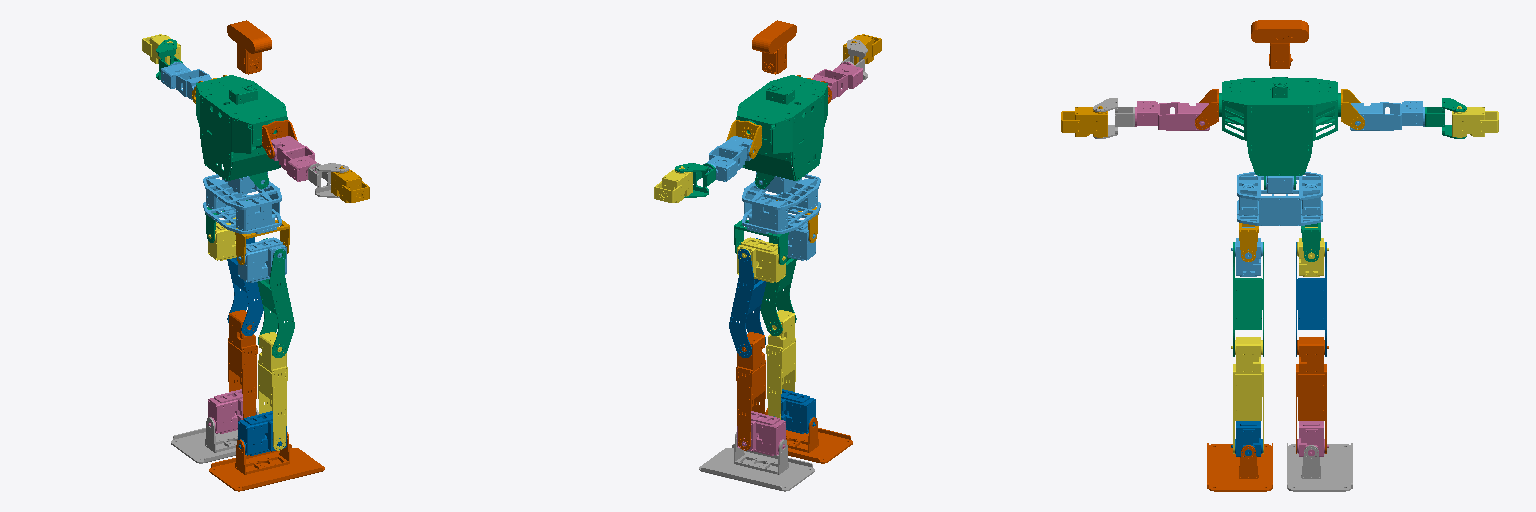
--- Render facts (derived) ---
The picture shows the robot from 3 angles, left to right: view 1: azimuth 30°, elevation 25°; view 2: azimuth 150°, elevation 25°; view 3: azimuth 270°, elevation 25°; orthographic projection.
Robot: robinion — 30 links, 29 joints (23 revolute, 6 fixed); root link base_link; default pose: all joints at 0.
Links seen in each view (by area): view 1: upper_body_link, torso_link, r_foot_link, r_knee_pitch_link, l_knee_pitch_link, r_hip_pitch_link, l_foot_link, head_pitch_link, l_hip_pitch_link, r_hip_roll_pitch_link, r_ankle_pitch_link, r_arm_1_link (+8 smaller); view 2: upper_body_link, torso_link, l_foot_link, l_knee_pitch_link, r_knee_pitch_link, l_hip_pitch_link, r_foot_link, head_pitch_link, r_hip_pitch_link, l_hip_roll_pitch_link, l_ankle_pitch_link, l_arm_1_link (+8 smaller); view 3: upper_body_link, torso_link, l_foot_link, r_foot_link, l_knee_pitch_link, r_knee_pitch_link, head_pitch_link, l_hip_pitch_link, r_hip_pitch_link, l_arm_1_link, r_arm_1_link, l_arm_3_link (+11 smaller).
Boxes of the visible links, <box> form: upper_body_link: <box>196,75,287,188</box>; torso_link: <box>203,172,281,233</box>; r_foot_link: <box>209,432,324,491</box>; r_knee_pitch_link: <box>258,332,287,450</box>; l_knee_pitch_link: <box>228,310,257,419</box>; r_hip_pitch_link: <box>257,238,294,357</box>; l_foot_link: <box>171,408,258,463</box>; head_pitch_link: <box>227,20,271,74</box>; l_hip_pitch_link: <box>227,237,263,335</box>; r_hip_roll_pitch_link: <box>238,237,286,282</box>; r_ankle_pitch_link: <box>238,411,286,455</box>; r_arm_1_link: <box>270,136,318,181</box>; upper_body_link: <box>736,75,827,188</box>; torso_link: <box>742,172,820,233</box>; l_foot_link: <box>699,432,814,491</box>; l_knee_pitch_link: <box>736,332,765,450</box>; r_knee_pitch_link: <box>766,310,795,419</box>; l_hip_pitch_link: <box>729,238,766,357</box>; r_foot_link: <box>765,408,852,463</box>; head_pitch_link: <box>752,20,796,74</box>; r_hip_pitch_link: <box>760,237,796,335</box>; l_hip_roll_pitch_link: <box>737,237,785,282</box>; l_ankle_pitch_link: <box>737,411,785,455</box>; l_arm_1_link: <box>705,136,753,181</box>; upper_body_link: <box>1219,77,1340,189</box>; torso_link: <box>1237,172,1322,225</box>; l_foot_link: <box>1287,443,1352,491</box>; r_foot_link: <box>1207,443,1272,491</box>; l_knee_pitch_link: <box>1296,337,1328,453</box>; r_knee_pitch_link: <box>1231,337,1263,453</box>; head_pitch_link: <box>1251,20,1308,68</box>; l_hip_pitch_link: <box>1296,242,1326,356</box>; r_hip_pitch_link: <box>1233,242,1263,356</box>; l_arm_1_link: <box>1350,101,1424,130</box>; r_arm_1_link: <box>1135,101,1209,130</box>; l_arm_3_link: <box>1452,106,1498,137</box>.
Size in the robot's own frame: 0.19 by 0.764 by 0.8576 metres.
23 mesh visuals loaded from 26 distinct referenced files (23 binary STL); not drawn: 3 (reference not matched to a file when rendering).

The robot description file, URDF, robot "robinion":
<?xml version="1.0" ?>
<!-- =================================================================================== -->
<!-- |    This document was autogenerated by xacro from robinion.xacro                 | -->
<!-- |    EDITING THIS FILE BY HAND IS NOT RECOMMENDED                                 | -->
<!-- =================================================================================== -->
<robot name="robinion">
  <!-- ros_control plugin -->
  <gazebo>
    <plugin filename="libgazebo_ros_control.so" name="gazebo_ros_control">
      <robotNamespace>/robinion</robotNamespace>
      <robotSimType>gazebo_ros_control/DefaultRobotHWSim</robotSimType>
    </plugin>
  </gazebo>
  <!-- Body -->
  <gazebo reference="torso_link">
    <mu1>0.2</mu1>
    <mu2>0.2</mu2>
    <material>Gazebo/White</material>
    <selfCollide>false</selfCollide>
  </gazebo>
  <gazebo reference="upper_body_link">
    <mu1>0.2</mu1>
    <mu2>0.2</mu2>
    <material>Gazebo/White</material>
    <selfCollide>false</selfCollide>
  </gazebo>
  <!-- Head -->
  <gazebo reference="head_yaw_link">
    <mu1>0.2</mu1>
    <mu2>0.2</mu2>
    <material>Gazebo/White</material>
    <selfCollide>false</selfCollide>
  </gazebo>
  <gazebo reference="head_pitch_link">
    <mu1>0.2</mu1>
    <mu2>0.2</mu2>
    <material>Gazebo/White</material>
    <selfCollide>false</selfCollide>
  </gazebo>
  <!-- Tangan Kiri -->
  <gazebo reference="l_shoulder_link">
    <mu1>0.2</mu1>
    <mu2>0.2</mu2>
    <material>Gazebo/White</material>
    <selfCollide>false</selfCollide>
  </gazebo>
  <gazebo reference="l_arm_1_link">
    <mu1>0.2</mu1>
    <mu2>0.2</mu2>
    <material>Gazebo/White</material>
    <selfCollide>false</selfCollide>
  </gazebo>
  <gazebo reference="l_arm_2_link">
    <mu1>0.2</mu1>
    <mu2>0.2</mu2>
    <material>Gazebo/White</material>
    <selfCollide>false</selfCollide>
  </gazebo>
  <gazebo reference="l_arm_3_link">
    <mu1>0.2</mu1>
    <mu2>0.2</mu2>
    <material>Gazebo/White</material>
    <selfCollide>false</selfCollide>
  </gazebo>
  <!-- Tangan Kanan -->
  <gazebo reference="r_shoulder_link">
    <mu1>0.2</mu1>
    <mu2>0.2</mu2>
    <material>Gazebo/White</material>
    <selfCollide>false</selfCollide>
  </gazebo>
  <gazebo reference="r_arm_1_link">
    <mu1>0.2</mu1>
    <mu2>0.2</mu2>
    <material>Gazebo/White</material>
    <selfCollide>false</selfCollide>
  </gazebo>
  <gazebo reference="r_arm_2_link">
    <mu1>0.2</mu1>
    <mu2>0.2</mu2>
    <material>Gazebo/White</material>
    <selfCollide>false</selfCollide>
  </gazebo>
  <gazebo reference="r_arm_3_link">
    <mu1>0.2</mu1>
    <mu2>0.2</mu2>
    <material>Gazebo/White</material>
    <selfCollide>false</selfCollide>
  </gazebo>
  <!-- Kaki Kiri -->
  <gazebo reference="l_hip_yaw_link">
    <mu1>0.2</mu1>
    <mu2>0.2</mu2>
    <material>Gazebo/White</material>
    <selfCollide>false</selfCollide>
  </gazebo>
  <gazebo reference="l_hip_roll_pitch_link">
    <mu1>0.2</mu1>
    <mu2>0.2</mu2>
    <material>Gazebo/White</material>
    <selfCollide>false</selfCollide>
  </gazebo>
  <gazebo reference="l_thigh_back_link">
    <mu1>0.2</mu1>
    <mu2>0.2</mu2>
    <material>Gazebo/White</material>
    <selfCollide>false</selfCollide>
  </gazebo>
  <gazebo reference="l_thigh_front_link">
    <mu1>0.2</mu1>
    <mu2>0.2</mu2>
    <material>Gazebo/White</material>
    <selfCollide>false</selfCollide>
  </gazebo>
  <gazebo reference="l_knee_link">
    <mu1>0.2</mu1>
    <mu2>0.2</mu2>
    <material>Gazebo/White</material>
    <selfCollide>false</selfCollide>
  </gazebo>
  <gazebo reference="l_shank_back_link">
    <mu1>0.2</mu1>
    <mu2>0.2</mu2>
    <material>Gazebo/White</material>
    <selfCollide>false</selfCollide>
  </gazebo>
  <gazebo reference="l_shank_front_link">
    <mu1>0.2</mu1>
    <mu2>0.2</mu2>
    <material>Gazebo/White</material>
    <selfCollide>false</selfCollide>
  </gazebo>
  <gazebo reference="l_ankle_roll_pitch_link">
    <mu1>0.2</mu1>
    <mu2>0.2</mu2>
    <material>Gazebo/White</material>
    <selfCollide>false</selfCollide>
  </gazebo>
  <gazebo reference="l_foot_link">
    <kp>100000.0</kp>
    <kd>100.0</kd>
    <mu1>1.5</mu1>
    <mu2>1.5</mu2>
    <fdir1>1 0 0</fdir1>
    <maxVel>1.0</maxVel>
    <minDepth>0.001</minDepth>
    <material>Gazebo/White</material>
    <selfCollide>false</selfCollide>
  </gazebo>
  <!-- right leg links -->
  <gazebo reference="r_hip_yaw_link">
    <mu1>0.2</mu1>
    <mu2>0.2</mu2>
    <material>Gazebo/White</material>
    <selfCollide>false</selfCollide>
  </gazebo>
  <gazebo reference="r_hip_roll_pitch_link">
    <mu1>0.2</mu1>
    <mu2>0.2</mu2>
    <material>Gazebo/White</material>
    <selfCollide>false</selfCollide>
  </gazebo>
  <gazebo reference="r_thigh_back_link">
    <mu1>0.2</mu1>
    <mu2>0.2</mu2>
    <material>Gazebo/White</material>
    <selfCollide>false</selfCollide>
  </gazebo>
  <gazebo reference="r_thigh_front_link">
    <mu1>0.2</mu1>
    <mu2>0.2</mu2>
    <material>Gazebo/White</material>
    <selfCollide>false</selfCollide>
  </gazebo>
  <gazebo reference="r_knee_link">
    <mu1>0.2</mu1>
    <mu2>0.2</mu2>
    <material>Gazebo/White</material>
    <selfCollide>false</selfCollide>
  </gazebo>
  <gazebo reference="r_shank_back_link">
    <mu1>0.2</mu1>
    <mu2>0.2</mu2>
    <material>Gazebo/White</material>
    <selfCollide>false</selfCollide>
  </gazebo>
  <gazebo reference="r_shank_front_link">
    <mu1>0.2</mu1>
    <mu2>0.2</mu2>
    <material>Gazebo/White</material>
    <selfCollide>false</selfCollide>
  </gazebo>
  <gazebo reference="r_ankle_roll_pitch_link">
    <mu1>0.2</mu1>
    <mu2>0.2</mu2>
    <material>Gazebo/White</material>
    <selfCollide>false</selfCollide>
  </gazebo>
  <gazebo reference="r_foot_link">
    <kp>100000.0</kp>
    <kd>100.0</kd>
    <mu1>1.5</mu1>
    <mu2>1.5</mu2>
    <fdir1>1 0 0</fdir1>
    <maxVel>1.0</maxVel>
    <minDepth>0.001</minDepth>
    <material>Gazebo/White</material>
    <selfCollide>false</selfCollide>
  </gazebo>
  <gazebo reference="gaze_link">
    <sensor name="camera" type="camera">
      <camera name="__default__">
        <horizontal_fov>1.012300</horizontal_fov>
        <image>
          <width>320</width>
          <height>240</height>
        </image>
        <clip>
          <near>0.001000</near>
          <far>100.000000</far>
        </clip>
      </camera>
      <always_on>1</always_on>
      <update_rate>30.000000</update_rate>
      <visualize>1</visualize>
      <plugin filename="libgazebo_ros_camera.so" name="camera_controller">
        <alwaysOn>true</alwaysOn>
        <updateRate>30</updateRate>
        <cameraName>robinion/camera</cameraName>
        <imageTopicName>image_raw</imageTopicName>
        <cameraInfoTopicName>camera_info</cameraInfoTopicName>
        <frameName>cam_link</frameName>
        <hackBaseline>0.07</hackBaseline>
        <distortionK1>0.0</distortionK1>
        <distortionK2>0.0</distortionK2>
        <distortionK3>0.0</distortionK3>
        <distortionT1>0.0</distortionT1>
        <distortionT2>0.0</distortionT2>
      </plugin>
    </sensor>
  </gazebo>
  <gazebo reference="imu_link">
    <gravity>true</gravity>
    <sensor name="imu_sensor" type="imu">
      <always_on>true</always_on>
      <update_rate>125</update_rate>
      <visualize>true</visualize>
      <topic>__default_topic__</topic>
      <plugin filename="libgazebo_ros_imu_sensor.so" name="imu_plugin">
        <topicName>robinion/imu</topicName>
        <bodyName>imu_link</bodyName>
        <updateRateHZ>125.0</updateRateHZ>
        <gaussianNoise>0.0</gaussianNoise>
        <xyzOffset>0 0 0</xyzOffset>
        <rpyOffset>0 0 0</rpyOffset>
        <frameName>imu_link</frameName>
      </plugin>
    </sensor>
  </gazebo>
  <!-- <xacro:property name="pi" value="3.141592654" /> -->
  <!-- <xacro:property name="pi" value="3.141592654" /> -->
  <link name="base_link">
    </link>
  <joint name="base_fixed_joint" type="fixed">
    <parent link="base_link"/>
    <child link="torso_link"/>
    <origin rpy="0 0 0" xyz="0.000 0.000 0.000"/>
  </joint>
  <link name="torso_link">
    <collision>
      <origin rpy="0.00 0.00 0.00" xyz="0.00 0.00 0.00"/>
      <geometry>
        <mesh filename="package://robinion_description/meshes/collision/lower_body_collision.stl"/>
      </geometry>
    </collision>
    <visual>
      <origin rpy="0.00 0.00 0.00" xyz="0.00 0.00 0.00"/>
      <geometry>
        <mesh filename="package://robinion_description/meshes/visual/lower_body_visual.stl"/>
      </geometry>
    </visual>
    <inertial>
      <origin rpy="0.00 0.00 0.00" xyz="-0.007122 0.000256 0.034914"/>
      <mass value="0.960747"/>
      <inertia ixx="0.002662" ixy="0.000002" ixz="0.000113" iyy="0.001197" iyz="0.000003" izz="0.002578"/>
    </inertial>
  </link>
  <joint name="torso_pitch_joint" type="revolute">
    <parent link="torso_link"/>
    <child link="upper_body_link"/>
    <origin rpy="0 0 0" xyz="0.019 0.0245 0.07075"/>
    <axis xyz="0 1 0"/>
    <limit effort="10.6" lower="-0.52" upper="1.570796327" velocity="3.14"/>
    <!-- <limit velocity="3.14" effort="100" lower="-3" upper="3" /> -->
    <dynamics damping="0.1" friction="0.0"/>
    <implicitSpringDamper>True</implicitSpringDamper>
  </joint>
  <transmission name="torso_pitch_joint_tran">
    <type>transmission_interface/SimpleTransmission</type>
    <joint name="torso_pitch_joint">
      <hardwareInterface>hardware_interface/EffortJointInterface</hardwareInterface>
    </joint>
    <actuator name="torso_pitch_joint_motor">
      <hardwareInterface>hardware_interface/EffortJointInterface</hardwareInterface>
      <mechanicalReduction>1</mechanicalReduction>
    </actuator>
  </transmission>
  <link name="upper_body_link">
    <collision>
      <origin rpy="0.00 0.00 0.00" xyz="0.00 0.00 0.00"/>
      <geometry>
        <mesh filename="package://robinion_description/meshes/collision/upper_body_collision.stl"/>
      </geometry>
    </collision>
    <visual>
      <origin rpy="0.00 0.00 0.00" xyz="0.00 0.00 0.00"/>
      <geometry>
        <mesh filename="package://robinion_description/meshes/visual/upper_body_visual.stl"/>
      </geometry>
    </visual>
    <inertial>
      <origin rpy="0.00 0.00 0.00" xyz="-0.029870 -0.024411 0.123492"/>
      <mass value="1.234139"/>
      <inertia ixx="0.006795" ixy="0.000000" ixz="-0.000098" iyy="0.003101" iyz="-0.000005" izz="0.006100"/>
    </inertial>
  </link>
  <joint name="imu_fixed_joint" type="fixed">
    <parent link="upper_body_link"/>
    <child link="imu_link"/>
    <origin rpy="0 0 0" xyz="-0.021 -0.025 0.122"/>
  </joint>
  <link name="imu_link">
    </link>
  <joint name="head_yaw_joint" type="revolute">
    <parent link="upper_body_link"/>
    <child link="head_yaw_link"/>
    <origin rpy="0 0 0" xyz="-0.0125 -0.0245 0.183051"/>
    <axis xyz="0 0 1"/>
    <limit effort="4.1" lower="-1.570796327" upper="1.570796327" velocity="4.82"/>
    <!-- <limit velocity="4.82" effort="1000" lower="-3" upper="3" /> -->
    <dynamics damping="0.1" friction="0.0"/>
    <implicitSpringDamper>True</implicitSpringDamper>
  </joint>
  <transmission name="head_yaw_joint_tran">
    <type>transmission_interface/SimpleTransmission</type>
    <joint name="head_yaw_joint">
      <hardwareInterface>hardware_interface/EffortJointInterface</hardwareInterface>
    </joint>
    <actuator name="head_yaw_joint_motor">
      <hardwareInterface>hardware_interface/EffortJointInterface</hardwareInterface>
      <mechanicalReduction>1</mechanicalReduction>
    </actuator>
  </transmission>
  <link name="head_yaw_link">
    <collision>
      <origin rpy="0.00 0.00 0.00" xyz="0.00 0.00 0.00"/>
      <geometry>
        <mesh filename="package://robinion_description/meshes/collision/head_yaw_collision.stl"/>
      </geometry>
    </collision>
    <visual>
      <origin rpy="0.00 0.00 0.00" xyz="0.00 0.00 0.00"/>
      <geometry>
        <mesh filename="package://robinion_description/meshes/visual/standard/head_yaw_visual.stl"/>
      </geometry>
    </visual>
    <inertial>
      <origin rpy="0.00 0.00 0.00" xyz="0.000000 0.000000 0.015679"/>
      <mass value="0.017180"/>
      <inertia ixx="0.000009" ixy="0.000000" ixz="0.000000" iyy="0.000005" iyz="0.000000" izz="0.000006"/>
    </inertial>
  </link>
  <joint name="head_pitch_joint" type="revolute">
    <parent link="head_yaw_link"/>
    <child link="head_pitch_link"/>
    <origin rpy="0 0 0" xyz="0.000 0.019 0.047"/>
    <axis xyz="0 -1 0"/>
    <limit effort="4.1" lower="-1.570796327" upper="1.570796327" velocity="4.82"/>
    <!-- <limit velocity="4.82" effort="1000" lower="-3" upper="3" /> -->
    <dynamics damping="0.1" friction="0.0"/>
    <implicitSpringDamper>True</implicitSpringDamper>
  </joint>
  <transmission name="head_pitch_joint_tran">
    <type>transmission_interface/SimpleTransmission</type>
    <joint name="head_pitch_joint">
      <hardwareInterface>hardware_interface/EffortJointInterface</hardwareInterface>
    </joint>
    <actuator name="head_pitch_joint_motor">
      <hardwareInterface>hardware_interface/EffortJointInterface</hardwareInterface>
      <mechanicalReduction>1</mechanicalReduction>
    </actuator>
  </transmission>
  <link name="head_pitch_link">
    <collision>
      <origin rpy="0.00 0.00 0.00" xyz="0.00 0.00 0.00"/>
      <geometry>
        <mesh filename="package://robinion_description/meshes/collision/head_pitch_collision.stl"/>
      </geometry>
    </collision>
    <visual>
      <origin rpy="0.00 0.00 0.00" xyz="0.00 0.00 0.00"/>
      <geometry>
        <mesh filename="package://robinion_description/meshes/visual/standard/head_pitch_visual.stl"/>
      </geometry>
    </visual>
    <inertial>
      <origin rpy="0.00 0.00 0.00" xyz="0.000985 -0.018216 0.022305"/>
      <mass value="0.164500"/>
      <inertia ixx="0.000115" ixy="0.000000" ixz="0.000005" iyy="0.000092" iyz="0.000001" izz="0.000047"/>
    </inertial>
  </link>
  <joint name="cam_fixed_joint" type="fixed">
    <parent link="head_pitch_link"/>
    <child link="cam_link"/>
    <origin rpy="-1.5708 0 -1.5708" xyz="0.019 -0.019 0.054"/>
  </joint>
  <link name="cam_link">
		</link>
  <joint name="gaze_fixed_joint" type="fixed">
    <parent link="head_pitch_link"/>
    <child link="gaze_link"/>
    <origin rpy="0 0 0" xyz="0.019 -0.019 0.054"/>
  </joint>
  <link name="gaze_link">
		</link>
  <joint name="l_shoulder_pitch_joint" type="revolute">
    <parent link="upper_body_link"/>
    <child link="l_shoulder_link"/>
    <origin rpy="0 0 0" xyz="-0.02089 0.0815 0.1388"/>
    <axis xyz="0 1 0"/>
    <limit effort="10.6" lower="-2.8274333886000003" upper="2.8274333886000003" velocity="3.14"/>
    <!-- <limit velocity="3.14" effort="100" lower="-3" upper="3" /> -->
    <dynamics damping="0.1" friction="0.0"/>
    <implicitSpringDamper>True</implicitSpringDamper>
  </joint>
  <transmission name="l_shoulder_pitch_joint_tran">
    <type>transmission_interface/SimpleTransmission</type>
    <joint name="l_shoulder_pitch_joint">
      <hardwareInterface>hardware_interface/EffortJointInterface</hardwareInterface>
    </joint>
    <actuator name="l_shoulder_pitch_joint_motor">
      <hardwareInterface>hardware_interface/EffortJointInterface</hardwareInterface>
      <mechanicalReduction>1</mechanicalReduction>
    </actuator>
  </transmission>
  <link name="l_shoulder_link">
    <collision>
      <origin rpy="0.00 0.00 0.00" xyz="0.00 0.00 0.00"/>
      <geometry>
        <mesh filename="package://robinion_description/meshes/collision/l_shoulder_collision.stl"/>
      </geometry>
    </collision>
    <visual>
      <origin rpy="0.00 0.00 0.00" xyz="0.00 0.00 0.00"/>
      <geometry>
        <mesh filename="package://robinion_description/meshes/visual/standard/left_shoulder_visual.stl"/>
      </geometry>
    </visual>
    <inertial>
      <origin rpy="0.00 0.00 0.00" xyz="0.000000 0.010235 -0.004313"/>
      <mass value="0.044923"/>
      <inertia ixx="0.000013" ixy="0.000000" ixz="0.000000" iyy="0.000027" iyz="-0.000003" izz="0.000025"/>
    </inertial>
  </link>
  <joint name="l_shoulder_roll_joint" type="revolute">
    <parent link="l_shoulder_link"/>
    <child link="l_arm_1_link"/>
    <origin rpy="0 0 0" xyz="0.0245 0.030017 -0.022"/>
    <axis xyz="-1 0 0"/>
    <limit effort="10.6" lower="-1.570796327" upper="1.570796327" velocity="3.14"/>
    <!-- <limit velocity="3.14" effort="100" lower="-3" upper="3" /> -->
    <dynamics damping="0.1" friction="0.0"/>
    <implicitSpringDamper>True</implicitSpringDamper>
  </joint>
  <transmission name="l_shoulder_roll_joint_tran">
    <type>transmission_interface/SimpleTransmission</type>
    <joint name="l_shoulder_roll_joint">
      <hardwareInterface>hardware_interface/EffortJointInterface</hardwareInterface>
    </joint>
    <actuator name="l_shoulder_roll_joint_motor">
      <hardwareInterface>hardware_interface/EffortJointInterface</hardwareInterface>
      <mechanicalReduction>1</mechanicalReduction>
    </actuator>
  </transmission>
  <link name="l_arm_1_link">
    <collision>
      <origin rpy="0.00 0.00 0.00" xyz="0.00 0.00 0.00"/>
      <geometry>
        <mesh filename="package://robinion_description/meshes/collision/l_arm_1_collision.stl"/>
      </geometry>
    </collision>
    <visual>
      <origin rpy="0.00 0.00 0.00" xyz="0.00 0.00 0.00"/>
      <geometry>
        <mesh filename="package://robinion_description/meshes/visual/l_arm_1_visual.stl"/>
      </geometry>
    </visual>
    <inertial>
      <origin rpy="0.00 0.00 0.00" xyz="-0.027891 0.046707 0.000000"/>
      <mass value="0.389041"/>
      <inertia ixx="0.000698" ixy="-0.000079" ixz="0.000000" iyy="0.000117" iyz="0.000000" izz="0.000753"/>
    </inertial>
  </link>
  <joint name="l_elbow_pitch_joint" type="revolute">
    <parent link="l_arm_1_link"/>
    <child link="l_arm_2_link"/>
    <origin rpy="0 0 0" xyz="-0.0245 0.118 0.000"/>
    <axis xyz="0 1 0"/>
    <limit effort="4.1" lower="-2.8274333886000003" upper="2.8274333886000003" velocity="4.82"/>
    <!-- <limit velocity="4.82" effort="100" lower="-3" upper="3" /> -->
    <dynamics damping="0.1" friction="0.0"/>
    <implicitSpringDamper>True</implicitSpringDamper>
  </joint>
  <transmission name="l_elbow_pitch_joint_tran">
    <type>transmission_interface/SimpleTransmission</type>
    <joint name="l_elbow_pitch_joint">
      <hardwareInterface>hardware_interface/EffortJointInterface</hardwareInterface>
    </joint>
    <actuator name="l_elbow_pitch_joint_motor">
      <hardwareInterface>hardware_interface/EffortJointInterface</hardwareInterface>
      <mechanicalReduction>1</mechanicalReduction>
    </actuator>
  </transmission>
  <link name="l_arm_2_link">
    <collision>
      <origin rpy="0.00 0.00 0.00" xyz="0.00 0.00 0.00"/>
      <geometry>
        <mesh filename="package://robinion_description/meshes/collision/l_arm_2_collision.stl"/>
      </geometry>
    </collision>
    <visual>
      <origin rpy="0.00 0.00 0.00" xyz="0.00 0.00 0.00"/>
      <geometry>
        <mesh filename="package://robinion_description/meshes/visual/l_arm_2_visual.stl"/>
      </geometry>
    </visual>
    <inertial>
      <origin rpy="0.00 0.00 0.00" xyz="0.003756 0.032656 0.000000"/>
      <mass value="0.051730"/>
      <inertia ixx="0.000036" ixy="0.000005" ixz="0.000000" iyy="0.000028" iyz="0.000000" izz="0.000025"/>
    </inertial>
  </link>
  <joint name="l_elbow_yaw_joint" type="revolute">
    <parent link="l_arm_2_link"/>
    <child link="l_arm_3_link"/>
    <origin rpy="0 0 0" xyz="0.022 0.060 0.0245"/>
    <axis xyz="0 0 -1"/>
    <limit effort="10.6" lower="-1.570796327" upper="1.570796327" velocity="3.14"/>
    <!-- <limit velocity="3.14" effort="100" lower="-3" upper="3" /> -->
    <dynamics damping="0.1" friction="0.0"/>
    <implicitSpringDamper>True</implicitSpringDamper>
  </joint>
  <transmission name="l_elbow_yaw_joint_tran">
    <type>transmission_interface/SimpleTransmission</type>
    <joint name="l_elbow_yaw_joint">
      <hardwareInterface>hardware_interface/EffortJointInterface</hardwareInterface>
    </joint>
    <actuator name="l_elbow_yaw_joint_motor">
      <hardwareInterface>hardware_interface/EffortJointInterface</hardwareInterface>
      <mechanicalReduction>1</mechanicalReduction>
    </actuator>
  </transmission>
  <link name="l_arm_3_link">
    <collision>
      <origin rpy="0.00 0.00 0.00" xyz="0.00 0.00 0.00"/>
      <geometry>
        <mesh filename="package://robinion_description/meshes/collision/l_arm_3_collision.stl"/>
      </geometry>
    </collision>
    <visual>
      <origin rpy="0.00 0.00 0.00" xyz="0.00 0.00 0.00"/>
      <geometry>
        <mesh filename="package://robinion_description/meshes/visual/l_arm_3_visual.stl"/>
      </geometry>
    </visual>
    <inertial>
      <origin rpy="0.00 0.00 0.00" xyz="0.000000 0.018081 -0.023869"/>
      <mass value="0.246669"/>
      <inertia ixx="0.000135" ixy="0.000000" ixz="0.000000" iyy="0.000064" iyz="-0.000001" izz="0.000121"/>
    </inertial>
  </link>
  <!-- <joint name="l_wrist_fixed_joint" type="fixed">
			<parent link="l_arm_3_link"/>
			<child link="l_wrist"/>
			<origin xyz="0.000 0.068 -0.0245" rpy="0 0 0"/>
		</joint>

		<link name="l_wrist">
		</link> -->
  <joint name="l_gripper_fixed_joint" type="fixed">
    <parent link="l_arm_3_link"/>
    <child link="l_gripper"/>
    <origin rpy="0 0 0" xyz="0.000 0.068 -0.0245"/>
  </joint>
  <link name="l_gripper">
    <collision>
      <origin rpy="0.00 0.00 0.00" xyz="0.00 0.00 0.00"/>
      <geometry>
        <mesh filename="package://robinion_description/meshes/collision/l_gripper_collision.stl"/>
      </geometry>
    </collision>
    <visual>
      <origin rpy="0.00 0.00 0.00" xyz="0.00 0.00 0.00"/>
      <geometry>
        <mesh filename="package://robinion_description/meshes/visual/standard/left_gripper_visual.stl"/>
      </geometry>
    </visual>
    <inertial>
      <origin rpy="0.00 0.00 0.00" xyz="0.000002 0.043774 0.003217"/>
      <mass value="0.216195"/>
      <inertia ixx="0.000183" ixy="0.000000" ixz="0.000000" iyy="0.000104" iyz="0.000015" izz="0.000191"/>
    </inertial>
  </link>
  <joint name="r_shoulder_pitch_joint" type="revolute">
    <parent link="upper_body_link"/>
    <child link="r_shoulder_link"/>
    <origin rpy="0 0 0" xyz="-0.02089 -0.1305 0.1388"/>
    <axis xyz="0 -1 0"/>
    <limit effort="10.6" lower="-2.8274333886000003" upper="2.8274333886000003" velocity="3.14"/>
    <!-- <limit velocity="3.14" effort="100" lower="-3" upper="3" /> -->
    <dynamics damping="0.1" friction="0.0"/>
    <implicitSpringDamper>True</implicitSpringDamper>
  </joint>
  <transmission name="r_shoulder_pitch_joint_tran">
    <type>transmission_interface/SimpleTransmission</type>
    <joint name="r_shoulder_pitch_joint">
      <hardwareInterface>hardware_interface/EffortJointInterface</hardwareInterface>
    </joint>
    <actuator name="r_shoulder_pitch_joint_motor">
      <hardwareInterface>hardware_interface/EffortJointInterface</hardwareInterface>
      <mechanicalReduction>1</mechanicalReduction>
    </actuator>
  </transmission>
  <link name="r_shoulder_link">
    <collision>
      <origin rpy="0.00 0.00 0.00" xyz="0.00 0.00 0.00"/>
      <geometry>
        <mesh filename="package://robinion_description/meshes/collision/r_shoulder_collision.stl"/>
      </geometry>
    </collision>
    <visual>
      <origin rpy="0.00 0.00 0.00" xyz="0.00 0.00 0.00"/>
      <geometry>
        <mesh filename="package://robinion_description/meshes/visual/standard/right_shoulder_visual.stl"/>
      </geometry>
    </visual>
    <inertial>
      <origin rpy="0.00 0.00 0.00" xyz="-0.000000 -0.010235 -0.004313"/>
      <mass value="0.044923"/>
      <inertia ixx="0.000013" ixy="0.000000" ixz="0.000000" iyy="0.000027" iyz="0.000003" izz="0.000025"/>
    </inertial>
  </link>
  <joint name="r_shoulder_roll_joint" type="revolute">
    <parent link="r_shoulder_link"/>
    <child link="r_arm_1_link"/>
    <origin rpy="0 0 0" xyz="0.0245 -0.030017 -0.022"/>
    <axis xyz="-1 0 0"/>
    <limit effort="10.6" lower="-1.570796327" upper="1.570796327" velocity="3.14"/>
    <!-- <limit velocity="3.14" effort="100" lower="-3" upper="3" /> -->
    <dynamics damping="0.1" friction="0.0"/>
    <implicitSpringDamper>True</implicitSpringDamper>
  </joint>
  <transmission name="r_shoulder_roll_joint_tran">
    <type>transmission_interface/SimpleTransmission</type>
    <joint name="r_shoulder_roll_joint">
      <hardwareInterface>hardware_interface/EffortJointInterface</hardwareInterface>
    </joint>
    <actuator name="r_shoulder_roll_joint_motor">
      <hardwareInterface>hardware_interface/EffortJointInterface</hardwareInterface>
      <mechanicalReduction>1</mechanicalReduction>
    </actuator>
  </transmission>
  <link name="r_arm_1_link">
    <collision>
      <origin rpy="0.00 0.00 0.00" xyz="0.00 0.00 0.00"/>
      <geometry>
        <mesh filename="package://robinion_description/meshes/collision/r_arm_1_collision.stl"/>
      </geometry>
    </collision>
    <visual>
      <origin rpy="0.00 0.00 0.00" xyz="0.00 0.00 0.00"/>
      <geometry>
        <mesh filename="package://robinion_description/meshes/visual/r_arm_1_visual.stl"/>
      </geometry>
    </visual>
    <inertial>
      <origin rpy="0.00 0.00 0.00" xyz="-0.027884 -0.046707 0.000000"/>
      <mass value="0.389041"/>
      <inertia ixx="0.000698" ixy="0.000079" ixz="0.000000" iyy="0.000117" iyz="0.000000" izz="0.000753"/>
    </inertial>
  </link>
  <joint name="r_elbow_pitch_joint" type="revolute">
    <parent link="r_arm_1_link"/>
    <child link="r_arm_2_link"/>
    <origin rpy="0 0 0" xyz="-0.0245 -0.118 0.000"/>
    <axis xyz="0 -1 0"/>
    <limit effort="4.1" lower="-2.8274333886000003" upper="2.8274333886000003" velocity="4.82"/>
    <!-- <limit velocity="4.82" effort="100" lower="-3" upper="3" /> -->
    <dynamics damping="0.1" friction="0.0"/>
    <implicitSpringDamper>True</implicitSpringDamper>
  </joint>
  <transmission name="r_elbow_pitch_joint_tran">
    <type>transmission_interface/SimpleTransmission</type>
    <joint name="r_elbow_pitch_joint">
      <hardwareInterface>hardware_interface/EffortJointInterface</hardwareInterface>
    </joint>
    <actuator name="r_elbow_pitch_joint_motor">
      <hardwareInterface>hardware_interface/EffortJointInterface</hardwareInterface>
      <mechanicalReduction>1</mechanicalReduction>
    </actuator>
  </transmission>
  <link name="r_arm_2_link">
    <collision>
      <origin rpy="0.00 0.00 0.00" xyz="0.00 0.00 0.00"/>
      <geometry>
        <mesh filename="package://robinion_description/meshes/collision/r_arm_2_collision.stl"/>
      </geometry>
    </collision>
    <visual>
      <origin rpy="0.00 0.00 0.00" xyz="0.00 0.00 0.00"/>
      <geometry>
        <mesh filename="package://robinion_description/meshes/visual/r_arm_2_visual.stl"/>
      </geometry>
    </visual>
    <inertial>
      <origin rpy="0.00 0.00 0.00" xyz="0.003756 -0.032656 0.000000"/>
      <mass value="0.051730"/>
      <inertia ixx="0.000036" ixy="-0.000005" ixz="0.000000" iyy="0.000028" iyz="0.000000" izz="0.000025"/>
    </inertial>
  </link>
  <joint name="r_elbow_yaw_joint" type="revolute">
    <parent link="r_arm_2_link"/>
    <child link="r_arm_3_link"/>
    <origin rpy="0 0 0" xyz="0.022 -0.060 0.0245"/>
    <axis xyz="0 0 -1"/>
    <limit effort="10.6" lower="-1.570796327" upper="1.570796327" velocity="3.14"/>
    <!-- <limit velocity="3.14" effort="100" lower="-3" upper="3" /> -->
    <dynamics damping="0.1" friction="0.0"/>
    <implicitSpringDamper>True</implicitSpringDamper>
  </joint>
  <transmission name="r_elbow_yaw_joint_tran">
    <type>transmission_interface/SimpleTransmission</type>
    <joint name="r_elbow_yaw_joint">
      <hardwareInterface>hardware_interface/EffortJointInterface</hardwareInterface>
    </joint>
    <actuator name="r_elbow_yaw_joint_motor">
      <hardwareInterface>hardware_interface/EffortJointInterface</hardwareInterface>
      <mechanicalReduction>1</mechanicalReduction>
    </actuator>
  </transmission>
  <link name="r_arm_3_link">
    <collision>
      <origin rpy="0.00 0.00 0.00" xyz="0.00 0.00 0.00"/>
      <geometry>
        <mesh filename="package://robinion_description/meshes/collision/r_arm_3_collision.stl"/>
      </geometry>
    </collision>
    <visual>
      <origin rpy="0.00 0.00 0.00" xyz="0.00 0.00 0.00"/>
      <geometry>
        <mesh filename="package://robinion_description/meshes/visual/r_arm_3_visual.stl"/>
      </geometry>
    </visual>
    <inertial>
      <origin rpy="0.00 0.00 0.00" xyz="0.000000 -0.018081 -0.023869"/>
      <mass value="0.246669"/>
      <inertia ixx="0.000135" ixy="0.000000" ixz="0.000000" iyy="0.000064" iyz="0.000001" izz="0.000121"/>
    </inertial>
  </link>
  <!-- <joint name="r_wrist_fixed_joint" type="fixed">
			<parent link="r_arm_3_link"/>
			<child link="r_wrist"/>
			<origin xyz="0.000 -0.068 -0.025" rpy="0 0 0"/>
		</joint>

		<link name="r_wrist">
		</link> -->
  <joint name="r_gripper_fixed_joint" type="fixed">
    <parent link="r_arm_3_link"/>
    <child link="r_gripper"/>
    <origin rpy="0 0 0" xyz="0.000 -0.068 -0.0245"/>
  </joint>
  <link name="r_gripper">
    <collision>
      <origin rpy="0.00 0.00 0.00" xyz="0.00 0.00 0.00"/>
      <geometry>
        <mesh filename="package://robinion_description/meshes/collision/r_gripper_collision.stl"/>
      </geometry>
    </collision>
    <visual>
      <origin rpy="0.00 0.00 0.00" xyz="0.00 0.00 0.00"/>
      <geometry>
        <mesh filename="package://robinion_description/meshes/visual/standard/right_gripper_visual.stl"/>
      </geometry>
    </visual>
    <inertial>
      <origin rpy="0.00 0.00 0.00" xyz="-0.000002 -0.043774 0.003217"/>
      <mass value="0.216195"/>
      <inertia ixx="0.000183" ixy="0.000000" ixz="0.000000" iyy="0.000104" iyz="-0.000015" izz="0.000191"/>
    </inertial>
  </link>
  <joint name="l_hip_yaw_joint" type="revolute">
    <parent link="base_link"/>
    <child link="l_hip_yaw_link"/>
    <origin rpy="0 0 0" xyz="0.000 0.055 -0.006"/>
    <axis xyz="0 0 -1"/>
    <limit effort="10.6" lower="-2.8274333886000003" upper="2.8274333886000003" velocity="3.14"/>
    <!-- <limit velocity="3.14" effort="100" lower="-3" upper="3" /> -->
    <dynamics damping="0.1" friction="0.0"/>
    <implicitSpringDamper>True</implicitSpringDamper>
  </joint>
  <transmission name="l_hip_yaw_joint_tran">
    <type>transmission_interface/SimpleTransmission</type>
    <joint name="l_hip_yaw_joint">
      <hardwareInterface>hardware_interface/EffortJointInterface</hardwareInterface>
    </joint>
    <actuator name="l_hip_yaw_joint_motor">
      <hardwareInterface>hardware_interface/EffortJointInterface</hardwareInterface>
      <mechanicalReduction>1</mechanicalReduction>
    </actuator>
  </transmission>
  <link name="l_hip_yaw_link">
    <collision>
      <origin rpy="0.00 0.00 0.00" xyz="0.00 0.00 0.00"/>
      <geometry>
        <mesh filename="package://robinion_description/meshes/collision/l_hip_yaw_collision.stl"/>
      </geometry>
    </collision>
    <visual>
      <origin rpy="0.00 0.00 0.00" xyz="0.00 0.00 0.00"/>
      <geometry>
        <mesh filename="package://robinion_description/meshes/visual/l_hip_yaw_visual.stl"/>
      </geometry>
    </visual>
    <inertial>
      <origin rpy="0.00 0.00 0.00" xyz="0.002613 0.000000 -0.016031"/>
      <mass value="0.048671"/>
      <inertia ixx="0.000020" ixy="0.000000" ixz="0.000000" iyy="0.000089" iyz="0.000000" izz="0.000080"/>
    </inertial>
  </link>
  <joint name="l_hip_roll_joint" type="revolute">
    <parent link="l_hip_yaw_link"/>
    <child link="l_hip_roll_pitch_link"/>
    <origin rpy="0 0 0" xyz="-0.042125 0.000 -0.050"/>
    <axis xyz="-1 0 0"/>
    <limit effort="9.90" lower="-0.7853981635" upper="0.7853981635" velocity="4.08"/>
    <!-- <limit velocity="4.08" effort="100" lower="-3" upper="3" /> -->
    <dynamics damping="0.1" friction="0.0"/>
    <implicitSpringDamper>True</implicitSpringDamper>
  </joint>
  <transmission name="l_hip_roll_joint_tran">
    <type>transmission_interface/SimpleTransmission</type>
    <joint name="l_hip_roll_joint">
      <hardwareInterface>hardware_interface/EffortJointInterface</hardwareInterface>
    </joint>
    <actuator name="l_hip_roll_joint_motor">
      <hardwareInterface>hardware_interface/EffortJointInterface</hardwareInterface>
      <mechanicalReduction>1</mechanicalReduction>
    </actuator>
  </transmission>
  <link name="l_hip_roll_pitch_link">
    <collision>
      <origin rpy="0.00 0.00 0.00" xyz="0.09 0.00 0.00"/>
      <geometry>
        <mesh filename="package://robinion_description/meshes/collision/l_hip_roll_pitch_collision.stl"/>
      </geometry>
    </collision>
    <visual>
      <origin rpy="0.00 0.00 0.00" xyz="0.00 0.00 0.00"/>
      <geometry>
        <mesh filename="package://robinion_description/meshes/visual/standard/left_hip_roll_pitch_visual.stl"/>
      </geometry>
    </visual>
    <inertial>
      <origin rpy="0.00 0.00 0.00" xyz="0.045037 0.000333 -0.015045"/>
      <mass value="0.467377"/>
      <inertia ixx="0.000198" ixy="0.000003" ixz="0.000001" iyy="0.000406" iyz="0.000000" izz="0.000326"/>
    </inertial>
  </link>
  <joint name="l_hip_pitch_joint" type="revolute">
    <parent link="l_hip_roll_pitch_link"/>
    <child link="l_hip_pitch_link"/>
    <origin rpy="0 0 0" xyz="0.06575 0.0245 0.000"/>
    <axis xyz="0 -1 0"/>
    <limit effort="9.90" lower="-0.7853981635" upper="0.7853981635" velocity="4.08"/>
    <!-- <limit velocity="4.08" effort="100" lower="-3" upper="3" /> -->
    <dynamics damping="0.1" friction="0.0"/>
    <implicitSpringDamper>True</implicitSpringDamper>
  </joint>
  <transmission name="l_hip_pitch_joint_tran">
    <type>transmission_interface/SimpleTransmission</type>
    <joint name="l_hip_pitch_joint">
      <hardwareInterface>hardware_interface/EffortJointInterface</hardwareInterface>
    </joint>
    <actuator name="l_hip_pitch_joint_motor">
      <hardwareInterface>hardware_interface/EffortJointInterface</hardwareInterface>
      <mechanicalReduction>1</mechanicalReduction>
    </actuator>
  </transmission>
  <link name="l_hip_pitch_link">
    <!-- <collision>
				<origin xyz="0.09 0.00 0.00" rpy="0.00 0.00 0.00"/>
				<geometry>
					<mesh filename="package://robinion_description/meshes/collision/l_hip_roll_pitch_collision.stl"/>
				</geometry>
			</collision> -->
    <visual>
      <origin rpy="0.00 0.00 0.00" xyz="0.00 0.00 0.00"/>
      <geometry>
        <mesh filename="package://robinion_description/meshes/visual/standard/left_hip_pitch_visual.stl"/>
      </geometry>
    </visual>
    <inertial>
      <origin rpy="0.00 0.00 0.00" xyz="0.045037 0.000333 -0.015045"/>
      <mass value="0.467377"/>
      <inertia ixx="0.000198" ixy="0.000003" ixz="0.000001" iyy="0.000406" iyz="0.000000" izz="0.000326"/>
    </inertial>
  </link>
  <joint name="l_knee_pitch_joint" type="revolute">
    <parent link="l_hip_pitch_link"/>
    <child link="l_knee_pitch_link"/>
    <origin rpy="0 0 0" xyz="0.000 0.000 -0.190"/>
    <axis xyz="0 -1 0"/>
    <limit effort="9.90" lower="-1.570796327" upper="1.570796327" velocity="4.08"/>
    <!-- <limit velocity="4.08" effort="100" lower="-3" upper="3" /> -->
    <dynamics damping="0.1" friction="0.0"/>
    <implicitSpringDamper>True</implicitSpringDamper>
  </joint>
  <transmission name="l_knee_pitch_joint_tran">
    <type>transmission_interface/SimpleTransmission</type>
    <joint name="l_knee_pitch_joint">
      <hardwareInterface>hardware_interface/EffortJointInterface</hardwareInterface>
    </joint>
    <actuator name="l_knee_pitch_joint_motor">
      <hardwareInterface>hardware_interface/EffortJointInterface</hardwareInterface>
      <mechanicalReduction>1</mechanicalReduction>
    </actuator>
  </transmission>
  <link name="l_knee_pitch_link">
    <!-- <collision>
				<origin xyz="0.00 0.00 0.00" rpy="0.00 0.00 0.00"/>
				<geometry>
					<mesh filename="package://robinion_description/meshes/collision/r_hip_yaw_collision.stl"/>
				</geometry>
			</collision> -->
    <visual>
      <origin rpy="0.00 0.00 0.00" xyz="0.00 0.00 0.00"/>
      <geometry>
        <mesh filename="package://robinion_description/meshes/visual/standard/left_leg_pitch_knee_ankle_visual.stl"/>
      </geometry>
    </visual>
    <inertial>
      <origin rpy="0.00 0.00 0.00" xyz="0.000420 -0.024035 -0.040918"/>
      <mass value="0.334780"/>
      <inertia ixx="0.000805" ixy="0.000000" ixz="-0.000012" iyy="0.000752" iyz="-0.000004" izz="0.000120"/>
    </inertial>
  </link>
  <joint name="l_ankle_pitch_joint" type="revolute">
    <parent link="l_knee_pitch_link"/>
    <child link="l_ankle_pitch_link"/>
    <origin rpy="0 0 0" xyz="0.000 0.000 -0.190"/>
    <axis xyz="0 -1 0"/>
    <limit effort="9.90" lower="-1.570796327" upper="1.570796327" velocity="4.08"/>
    <!-- <limit velocity="4.08" effort="100" lower="-3" upper="3" /> -->
    <dynamics damping="0.1" friction="0.0"/>
    <implicitSpringDamper>True</implicitSpringDamper>
  </joint>
  <transmission name="l_ankle_pitch_joint_tran">
    <type>transmission_interface/SimpleTransmission</type>
    <joint name="l_ankle_pitch_joint">
      <hardwareInterface>hardware_interface/EffortJointInterface</hardwareInterface>
    </joint>
    <actuator name="l_ankle_pitch_joint_motor">
      <hardwareInterface>hardware_interface/EffortJointInterface</hardwareInterface>
      <mechanicalReduction>1</mechanicalReduction>
    </actuator>
  </transmission>
  <link name="l_ankle_pitch_link">
    <!-- <collision>
				<origin xyz="0.00 0.00 0.00" rpy="0.00 0.00 0.00"/>
				<geometry>
					<mesh filename="package://robinion_description/meshes/collision/l_ankle_roll_pitch_collision.stl"/>
				</geometry>
			</collision> -->
    <visual>
      <origin rpy="0.00 0.00 0.00" xyz="0.00 0.00 0.00"/>
      <geometry>
        <mesh filename="package://robinion_description/meshes/visual/standard/left_ankle_roll_pitch_visual.stl"/>
      </geometry>
    </visual>
    <inertial>
      <origin rpy="0.00 0.00 0.00" xyz="-0.020713 -0.024167 0.015045"/>
      <mass value="0.467377"/>
      <inertia ixx="0.000198" ixy="-0.000003" ixz="0.000001" iyy="0.000406" iyz="-0.000000" izz="0.000326"/>
    </inertial>
  </link>
  <joint name="l_ankle_roll_joint" type="revolute">
    <parent link="l_ankle_pitch_link"/>
    <child link="l_foot_link"/>
    <origin rpy="0 0 0" xyz="-0.06575 -0.0245 0.000"/>
    <axis xyz="-1 0 0"/>
    <limit effort="9.90" lower="-1.570796327" upper="1.570796327" velocity="4.08"/>
    <!-- <limit velocity="4.08" effort="100" lower="-3" upper="3" /> -->
    <dynamics damping="0.1" friction="0.0"/>
    <implicitSpringDamper>True</implicitSpringDamper>
  </joint>
  <transmission name="l_ankle_roll_joint_tran">
    <type>transmission_interface/SimpleTransmission</type>
    <joint name="l_ankle_roll_joint">
      <hardwareInterface>hardware_interface/EffortJointInterface</hardwareInterface>
    </joint>
    <actuator name="l_ankle_roll_joint_motor">
      <hardwareInterface>hardware_interface/EffortJointInterface</hardwareInterface>
      <mechanicalReduction>1</mechanicalReduction>
    </actuator>
  </transmission>
  <link name="l_foot_link">
    <collision>
      <origin rpy="0.00 0.00 0.00" xyz="0.09 0.00 0.00"/>
      <geometry>
        <mesh filename="package://robinion_description/meshes/collision/l_foot_collision.stl"/>
      </geometry>
    </collision>
    <visual>
      <origin rpy="0.00 0.00 0.00" xyz="0.00 0.00 0.00"/>
      <geometry>
        <mesh filename="package://robinion_description/meshes/visual/standard/left_foot_visual.stl"/>
      </geometry>
    </visual>
    <inertial>
      <origin rpy="0.00 0.00 0.00" xyz="0.045052 0.011620 -0.047578"/>
      <mass value="0.241931"/>
      <inertia ixx="0.000290" ixy="-0.000000" ixz="0.000000" iyy="0.000663" iyz="-0.000010" izz="0.000899"/>
    </inertial>
  </link>
  <joint name="r_hip_yaw_joint" type="revolute">
    <parent link="base_link"/>
    <child link="r_hip_yaw_link"/>
    <origin rpy="0 0 0" xyz="0.000 -0.055 -0.006"/>
    <axis xyz="0 0 -1"/>
    <limit effort="10.6" lower="-2.8274333886000003" upper="2.8274333886000003" velocity="3.14"/>
    <!-- <limit velocity="3.14" effort="1000" lower="-3" upper="3" /> -->
    <dynamics damping="0.1" friction="0.0"/>
    <implicitSpringDamper>True</implicitSpringDamper>
  </joint>
  <transmission name="r_hip_yaw_joint_tran">
    <type>transmission_interface/SimpleTransmission</type>
    <joint name="r_hip_yaw_joint">
      <hardwareInterface>hardware_interface/EffortJointInterface</hardwareInterface>
    </joint>
    <actuator name="r_hip_yaw_joint_motor">
      <hardwareInterface>hardware_interface/EffortJointInterface</hardwareInterface>
      <mechanicalReduction>1</mechanicalReduction>
    </actuator>
  </transmission>
  <link name="r_hip_yaw_link">
    <collision>
      <origin rpy="0.00 0.00 0.00" xyz="0.00 0.00 0.00"/>
      <geometry>
        <mesh filename="package://robinion_description/meshes/collision/r_hip_yaw_collision.stl"/>
      </geometry>
    </collision>
    <visual>
      <origin rpy="0.00 0.00 0.00" xyz="0.00 0.00 0.00"/>
      <geometry>
        <mesh filename="package://robinion_description/meshes/visual/r_hip_yaw_visual.stl"/>
      </geometry>
    </visual>
    <inertial>
      <origin rpy="0.00 0.00 0.00" xyz="0.002613 0.000000 -0.016031"/>
      <mass value="0.467377"/>
      <inertia ixx="0.000020" ixy="0.000000" ixz="0.000000" iyy="0.000089" iyz="0.000000" izz="0.000080"/>
    </inertial>
  </link>
  <joint name="r_hip_roll_joint" type="revolute">
    <parent link="r_hip_yaw_link"/>
    <child link="r_hip_roll_pitch_link"/>
    <origin rpy="0 0 0" xyz="-0.042125 0.000 -0.050"/>
    <axis xyz="-1 0 0"/>
    <limit effort="9.90" lower="-0.7853981635" upper="0.7853981635" velocity="4.08"/>
    <!-- <limit velocity="4.08" effort="100" lower="-3" upper="3" /> -->
    <dynamics damping="0.1" friction="0.0"/>
    <implicitSpringDamper>True</implicitSpringDamper>
  </joint>
  <transmission name="r_hip_roll_joint_tran">
    <type>transmission_interface/SimpleTransmission</type>
    <joint name="r_hip_roll_joint">
      <hardwareInterface>hardware_interface/EffortJointInterface</hardwareInterface>
    </joint>
    <actuator name="r_hip_roll_joint_motor">
      <hardwareInterface>hardware_interface/EffortJointInterface</hardwareInterface>
      <mechanicalReduction>1</mechanicalReduction>
    </actuator>
  </transmission>
  <link name="r_hip_roll_pitch_link">
    <collision>
      <origin rpy="0.00 0.00 0.00" xyz="0.09 0.00 0.00"/>
      <geometry>
        <mesh filename="package://robinion_description/meshes/collision/r_hip_roll_pitch_collision.stl"/>
      </geometry>
    </collision>
    <visual>
      <origin rpy="0.00 0.00 0.00" xyz="0.00 0.00 0.00"/>
      <geometry>
        <mesh filename="package://robinion_description/meshes/visual/standard/right_hip_roll_pitch_visual.stl"/>
      </geometry>
    </visual>
    <inertial>
      <origin rpy="0.00 0.00 0.00" xyz="-0.020713 -0.024167 0.015045"/>
      <mass value="0.467377"/>
      <inertia ixx="0.000198" ixy="-0.000003" ixz="0.000001" iyy="0.000406" iyz="-0.000000" izz="0.000326"/>
    </inertial>
  </link>
  <joint name="r_hip_pitch_joint" type="revolute">
    <parent link="r_hip_roll_pitch_link"/>
    <child link="r_hip_pitch_link"/>
    <origin rpy="0 0 0" xyz="0.06575 -0.0245 0.000"/>
    <axis xyz="0 -1 0"/>
    <limit effort="9.90" lower="-1.570796327" upper="1.570796327" velocity="4.08"/>
    <!-- <limit velocity="4.08" effort="100" lower="-3" upper="3" /> -->
    <dynamics damping="0.1" friction="0.0"/>
    <implicitSpringDamper>True</implicitSpringDamper>
  </joint>
  <transmission name="r_hip_pitch_joint_tran">
    <type>transmission_interface/SimpleTransmission</type>
    <joint name="r_hip_pitch_joint">
      <hardwareInterface>hardware_interface/EffortJointInterface</hardwareInterface>
    </joint>
    <actuator name="r_hip_pitch_joint_motor">
      <hardwareInterface>hardware_interface/EffortJointInterface</hardwareInterface>
      <mechanicalReduction>1</mechanicalReduction>
    </actuator>
  </transmission>
  <link name="r_hip_pitch_link">
    <!-- <collision>
				<origin xyz="0.00 0.00 0.00" rpy="0.00 0.00 0.00"/>
				<geometry>
					<mesh filename="package://robinion_description/meshes/collision/r_hip_yaw_collision.stl"/>
				</geometry>
			</collision> -->
    <visual>
      <origin rpy="0.00 0.00 0.00" xyz="0.00 0.00 0.00"/>
      <geometry>
        <mesh filename="package://robinion_description/meshes/visual/standard/right_hip_pitch_visual.stl"/>
      </geometry>
    </visual>
    <inertial>
      <origin rpy="0.00 0.00 0.00" xyz="0.005543 -0.024500 -0.098751"/>
      <mass value="0.125336"/>
      <inertia ixx="0.000339" ixy="0.000000" ixz="-0.000026" iyy="0.000300" iyz="0.000000" izz="0.000084"/>
    </inertial>
  </link>
  <joint name="r_knee_pitch_joint" type="revolute">
    <parent link="r_hip_pitch_link"/>
    <child link="r_knee_pitch_link"/>
    <origin rpy="0 0 0" xyz="0.000 0.000 -0.190"/>
    <axis xyz="0 -1 0"/>
    <limit effort="9.90" lower="-1.570796327" upper="1.570796327" velocity="4.08"/>
    <!-- <limit velocity="4.08" effort="100" lower="-3" upper="3" /> -->
    <dynamics damping="0.1" friction="0.0"/>
    <implicitSpringDamper>True</implicitSpringDamper>
  </joint>
  <transmission name="r_knee_pitch_joint_tran">
    <type>transmission_interface/SimpleTransmission</type>
    <joint name="r_knee_pitch_joint">
      <hardwareInterface>hardware_interface/EffortJointInterface</hardwareInterface>
    </joint>
    <actuator name="r_knee_pitch_joint_motor">
      <hardwareInterface>hardware_interface/EffortJointInterface</hardwareInterface>
      <mechanicalReduction>1</mechanicalReduction>
    </actuator>
  </transmission>
  <link name="r_knee_pitch_link">
    <!-- <collision>
				<origin xyz="0.00 0.00 0.00" rpy="0.00 0.00 0.00"/>
				<geometry>
					<mesh filename="package://robinion_description/meshes/collision/r_hip_yaw_collision.stl"/>
				</geometry>
			</collision> -->
    <visual>
      <origin rpy="0.00 0.00 0.00" xyz="0.00 0.00 0.00"/>
      <geometry>
        <mesh filename="package://robinion_description/meshes/visual/standard/right_leg_pitch_knee_ankle_visual.stl"/>
      </geometry>
    </visual>
    <inertial>
      <origin rpy="0.00 0.00 0.00" xyz="0.000420 -0.024965 -0.040918"/>
      <mass value="0.334780"/>
      <inertia ixx="0.000805" ixy="0.000000" ixz="-0.000012" iyy="0.000752" iyz="-0.000004" izz="0.000120"/>
    </inertial>
  </link>
  <joint name="r_ankle_pitch_joint" type="revolute">
    <parent link="r_knee_pitch_link"/>
    <child link="r_ankle_pitch_link"/>
    <origin rpy="0 0 0" xyz="0.000 0.000 -0.190"/>
    <axis xyz="0 -1 0"/>
    <limit effort="9.90" lower="-1.570796327" upper="1.570796327" velocity="4.08"/>
    <!-- <limit velocity="4.08" effort="100" lower="-3" upper="3" /> -->
    <dynamics damping="0.1" friction="0.0"/>
    <implicitSpringDamper>True</implicitSpringDamper>
  </joint>
  <transmission name="r_ankle_pitch_joint_tran">
    <type>transmission_interface/SimpleTransmission</type>
    <joint name="r_ankle_pitch_joint">
      <hardwareInterface>hardware_interface/EffortJointInterface</hardwareInterface>
    </joint>
    <actuator name="r_ankle_pitch_joint_motor">
      <hardwareInterface>hardware_interface/EffortJointInterface</hardwareInterface>
      <mechanicalReduction>1</mechanicalReduction>
    </actuator>
  </transmission>
  <link name="r_ankle_pitch_link">
    <!-- <collision>
				<origin xyz="0.00 0.00 0.00" rpy="0.00 0.00 0.00"/>
				<geometry>
					<mesh filename="package://robinion_description/meshes/collision/r_ankle_roll_pitch_collision.stl"/>
				</geometry>
			</collision> -->
    <visual>
      <origin rpy="0.00 0.00 0.00" xyz="0.00 0.00 0.00"/>
      <geometry>
        <mesh filename="package://robinion_description/meshes/visual/standard/right_ankle_roll_pitch_visual.stl"/>
      </geometry>
    </visual>
    <inertial>
      <origin rpy="0.00 0.00 0.00" xyz="-0.020713 0.024167 0.015045"/>
      <mass value="0.467377"/>
      <inertia ixx="0.000198" ixy="-0.000003" ixz="0.000001" iyy="0.000406" iyz="-0.000000" izz="0.000326"/>
    </inertial>
  </link>
  <joint name="r_ankle_roll_joint" type="revolute">
    <parent link="r_ankle_pitch_link"/>
    <child link="r_foot_link"/>
    <origin rpy="0 0 0" xyz="-0.06575 0.0245 0.000"/>
    <axis xyz="-1 0 0"/>
    <limit effort="9.90" lower="-1.570796327" upper="1.570796327" velocity="4.08"/>
    <!-- <limit velocity="4.08" effort="100" lower="-3" upper="3" /> -->
    <dynamics damping="0.1" friction="0.0"/>
    <implicitSpringDamper>True</implicitSpringDamper>
  </joint>
  <transmission name="r_ankle_pitch_joint_tran">
    <type>transmission_interface/SimpleTransmission</type>
    <joint name="r_ankle_pitch_joint">
      <hardwareInterface>hardware_interface/EffortJointInterface</hardwareInterface>
    </joint>
    <actuator name="r_ankle_pitch_joint_motor">
      <hardwareInterface>hardware_interface/EffortJointInterface</hardwareInterface>
      <mechanicalReduction>1</mechanicalReduction>
    </actuator>
  </transmission>
  <link name="r_foot_link">
    <collision>
      <origin rpy="0.00 0.00 0.00" xyz="0.09 0.00 0.00"/>
      <geometry>
        <mesh filename="package://robinion_description/meshes/collision/r_foot_collision.stl"/>
      </geometry>
    </collision>
    <visual>
      <origin rpy="0.00 0.00 0.00" xyz="0.00 0.00 0.00"/>
      <geometry>
        <mesh filename="package://robinion_description/meshes/visual/standard/right_foot_visual.stl"/>
      </geometry>
    </visual>
    <inertial>
      <origin rpy="0.00 0.00 0.00" xyz="0.045052 -0.011620 -0.047578"/>
      <mass value="0.241931"/>
      <inertia ixx="0.000290" ixy="-0.000000" ixz="0.000000" iyy="0.000663" iyz="-0.000010" izz="0.000899"/>
    </inertial>
  </link>
  <!-- <link name="r_sole">
		</link> -->
</robot>
